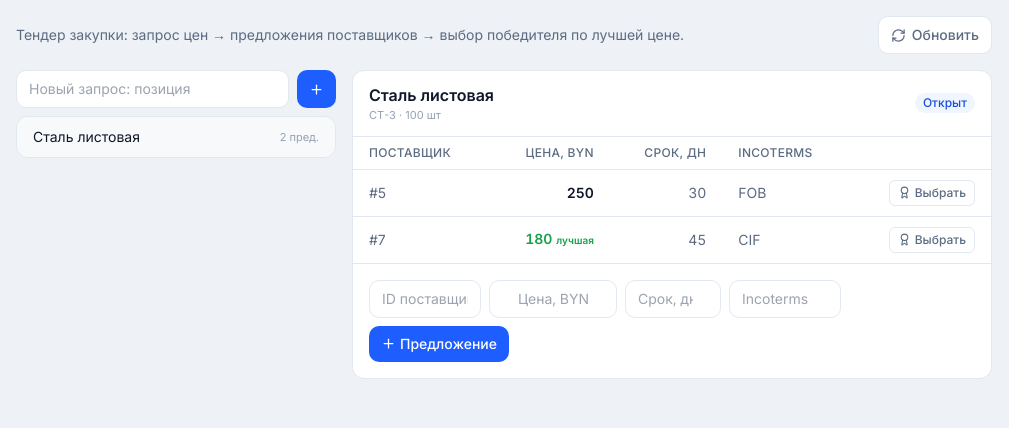
Scenario: ProcurementRfqView › создание с пустым полем даёт ошибку и не зовёт API
The width and height of the screenshot is (1009, 428).
Click the 2nd button. click: (316, 89)
box: [297, 70, 336, 108]
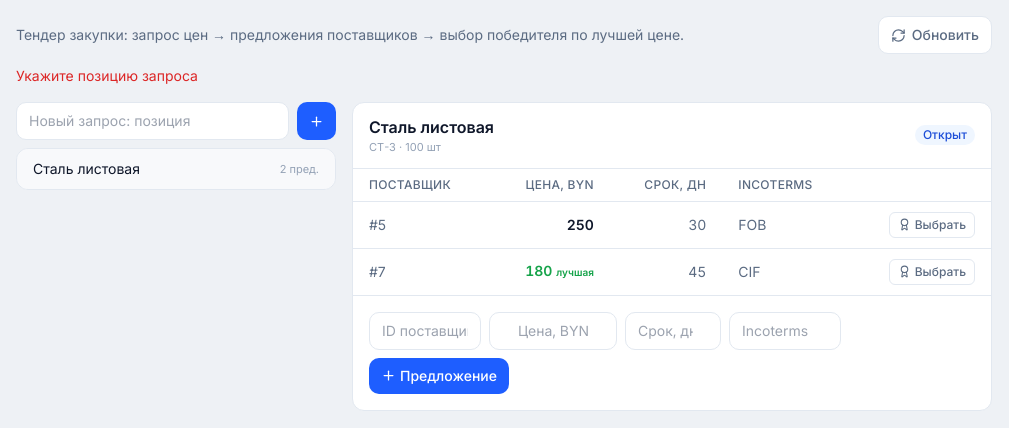
Expected: the text "Укажите позицию запроса" is shown, [16, 67, 198, 84]
